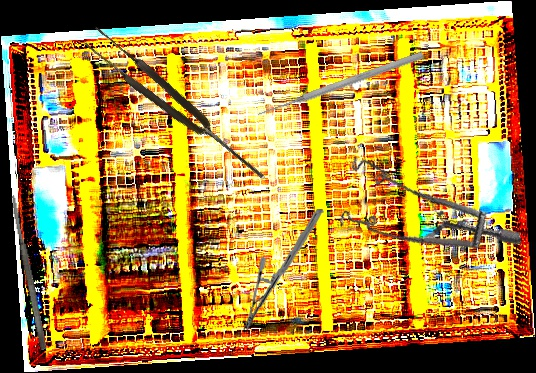Needle Holder: (242, 205, 324, 334)
Pusher: (255, 49, 425, 120)
Spatula Surgical: (9, 194, 48, 351)
Speculum: (327, 126, 523, 281)
Tissue Forceps: (80, 23, 273, 190)
